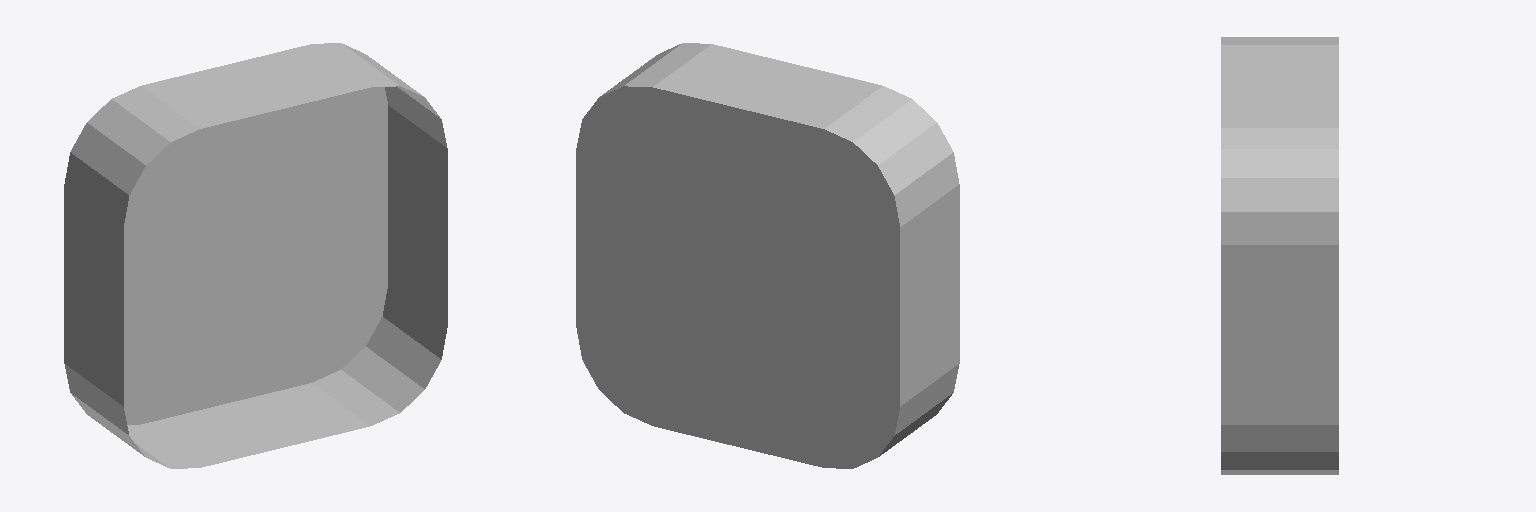
File: original-9.obj
3 renders of one model, left to right at view 1: azimuth 30°, elevation 25°; view 2: azimuth 150°, elevation 25°; view 3: azimuth 270°, elevation 25°, orthographic.
Visible parts, largest first — view 1: #ID81; view 2: #ID81; view 3: #ID81.
Part boxes in pixels (x1,y1,x2,y2): #ID81: (64,43,447,468); #ID81: (576,43,959,468); #ID81: (1221,37,1338,474).
Size of the model in its own units: 0.2639 by 0.2639 by 0.0837.